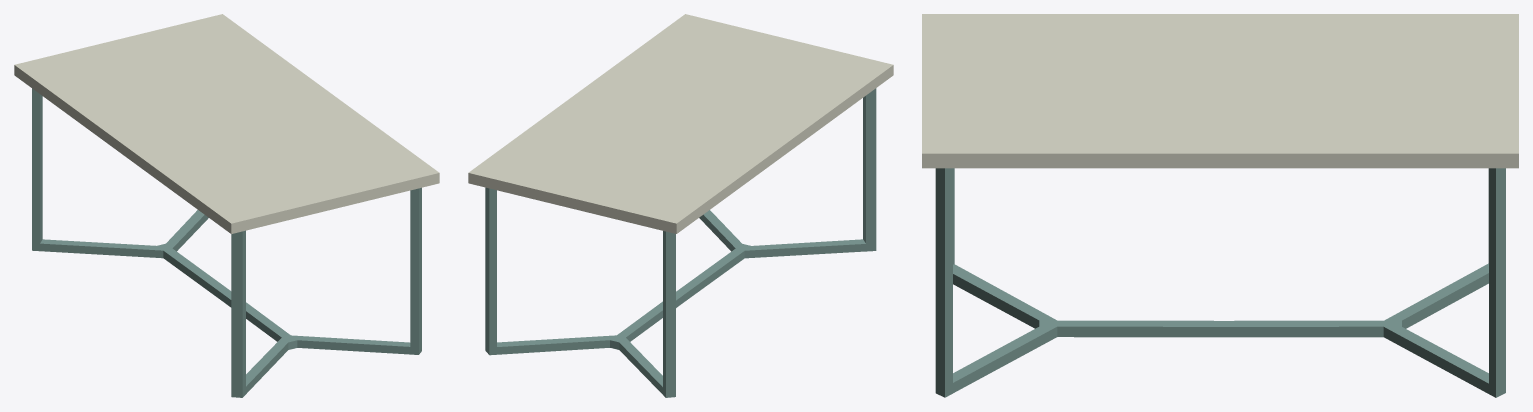
File: ban.fbx
3 renders of one model, left to right at view 1: azimuth 30°, elevation 25°; view 2: azimuth 150°, elevation 25°; view 3: azimuth 270°, elevation 25°, orthographic. The views are drawn at different scales.
Visible parts, largest first — view 1: Plane.004, Plane; view 2: Plane.004, Plane; view 3: Plane.004, Plane.
Part boxes in pixels (<box>): Plane.004: <box>14,14,439,233</box>; Plane: <box>32,88,421,397</box>; Plane.004: <box>468,14,893,233</box>; Plane: <box>485,88,876,397</box>; Plane.004: <box>922,14,1518,168</box>; Plane: <box>935,168,1505,397</box>.
Bounding box in the file's own units: 769 × 642 × 1388.
